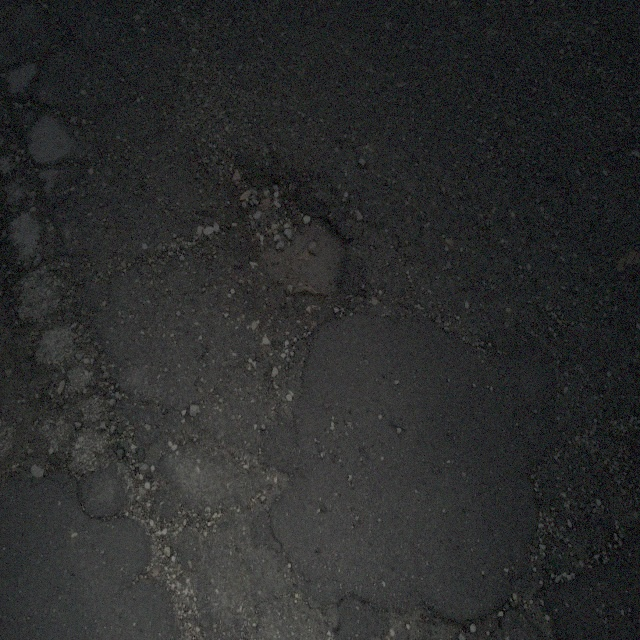pothole: (235, 168, 352, 324)
